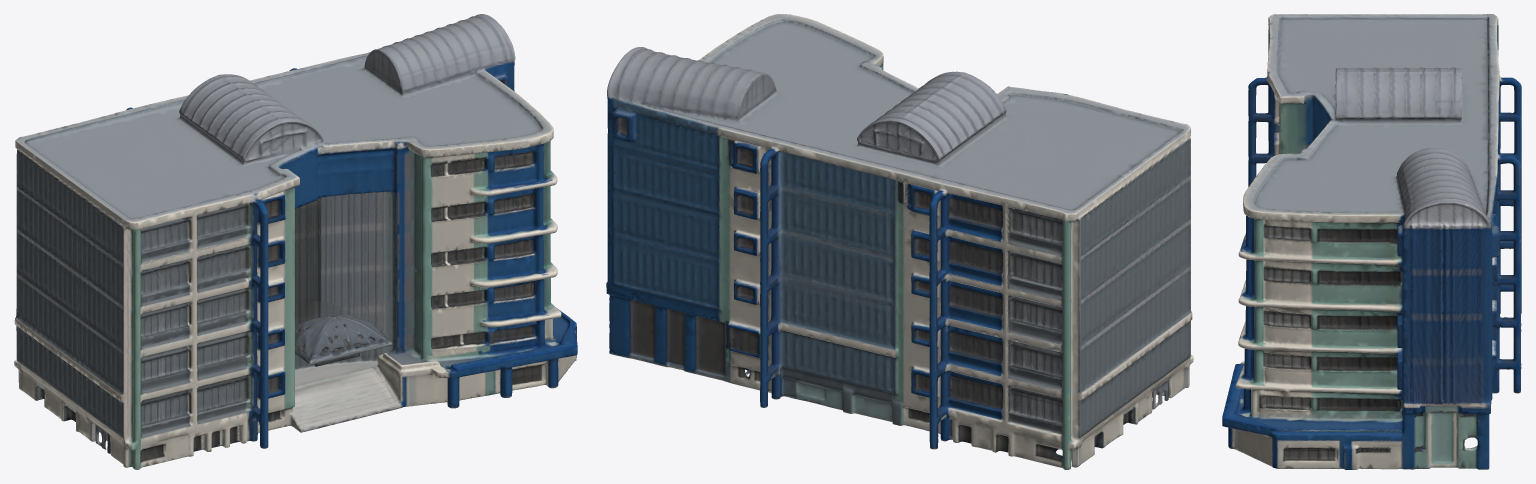
File: odontologia.glb
3 renders of one model, left to right at view 1: azimuth 30°, elevation 25°; view 2: azimuth 150°, elevation 25°; view 3: azimuth 270°, elevation 25°, orthographic. The views are drawn at different scales.
Parts seen in each view (by area): view 1: mesh_node; view 2: mesh_node; view 3: mesh_node.
Part boxes in pixels (<box>): mesh_node: <box>14,14,577,469</box>; mesh_node: <box>606,14,1193,469</box>; mesh_node: <box>1222,14,1521,469</box>.
Bounding box in the file's own units: 33.08 × 19.27 × 19.15.
1 material, 1 textured.
